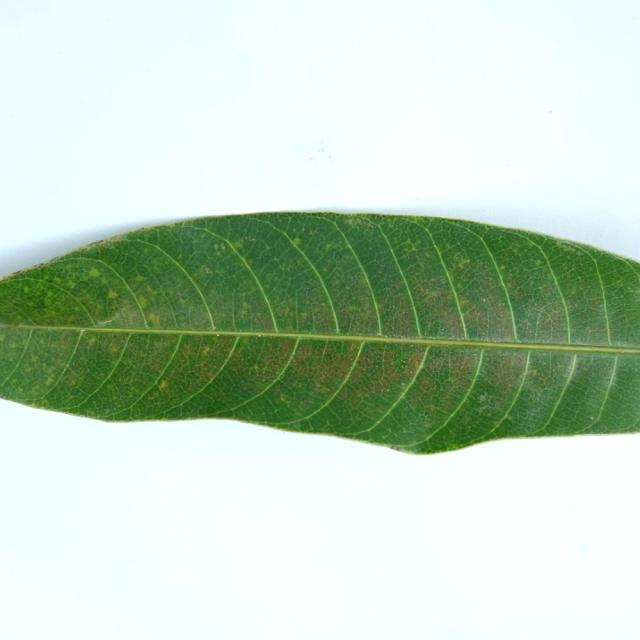Mango: (0, 212, 639, 453)
Powdery_Mildew: (348, 217, 379, 227), (289, 233, 303, 250), (212, 242, 229, 256), (402, 240, 419, 252), (561, 243, 581, 253), (444, 371, 458, 385), (136, 294, 149, 308), (371, 300, 381, 316), (424, 289, 438, 300), (199, 265, 211, 277), (147, 312, 158, 325), (457, 258, 470, 268), (242, 257, 251, 270), (458, 296, 469, 306), (45, 375, 55, 386), (504, 414, 515, 424), (231, 240, 243, 249), (88, 268, 100, 277), (326, 242, 338, 251), (345, 217, 358, 225), (279, 393, 289, 403), (201, 345, 211, 355), (158, 380, 168, 390), (87, 336, 97, 346), (107, 290, 118, 299), (493, 419, 503, 428), (398, 357, 407, 367), (134, 274, 145, 282), (22, 285, 31, 294), (241, 301, 250, 310), (45, 292, 54, 301), (53, 277, 63, 285), (250, 364, 260, 372), (319, 385, 329, 393), (360, 275, 368, 285), (348, 305, 359, 312), (213, 243, 221, 252), (10, 340, 19, 348), (244, 236, 255, 242), (498, 264, 506, 272), (569, 287, 577, 295), (531, 369, 539, 377), (69, 378, 77, 386), (479, 393, 487, 401), (534, 259, 543, 266), (321, 266, 328, 273), (320, 301, 327, 307), (220, 243, 226, 250), (346, 285, 350, 290), (401, 382, 405, 386)
